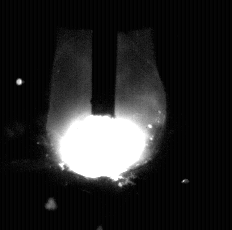arame: (93, 0, 117, 117)
poca: (46, 0, 162, 230)
